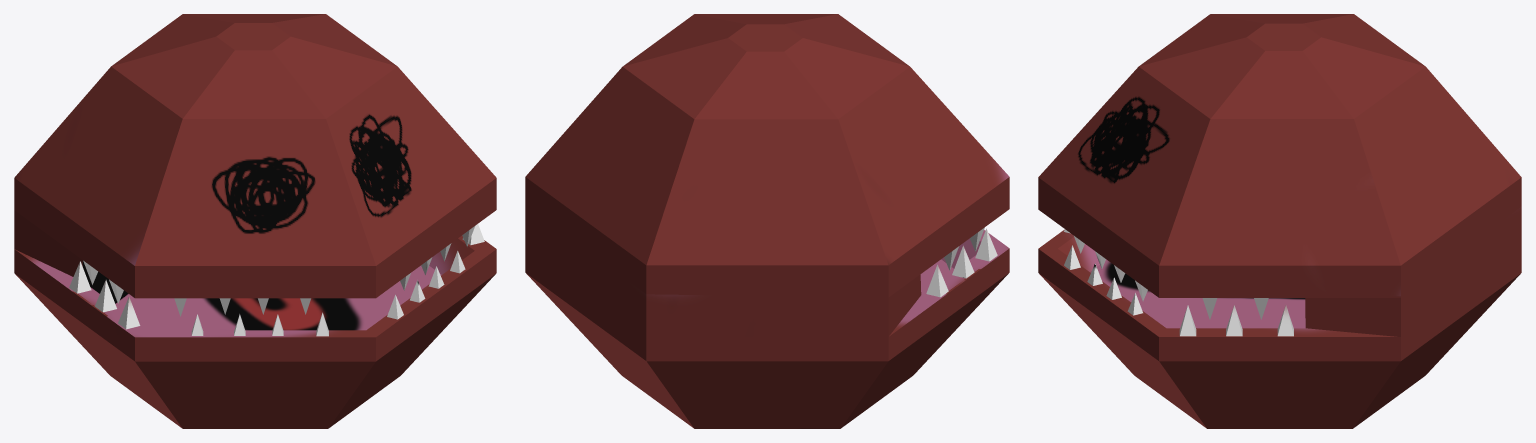
File: rollingDemon.fbx
The picture shows the model from 3 angles, left to right: view 1: azimuth 30°, elevation 25°; view 2: azimuth 150°, elevation 25°; view 3: azimuth 270°, elevation 25°; orthographic projection.
Parts seen in each view (by area): view 1: Ball Enemy; view 2: Ball Enemy; view 3: Ball Enemy.
Part boxes in pixels (left/top/right/bottom): Ball Enemy: left=14, top=14, right=496, bottom=428; Ball Enemy: left=525, top=14, right=1009, bottom=428; Ball Enemy: left=1038, top=14, right=1521, bottom=428.
Size of the model in its own units: 173 by 171 by 200.
